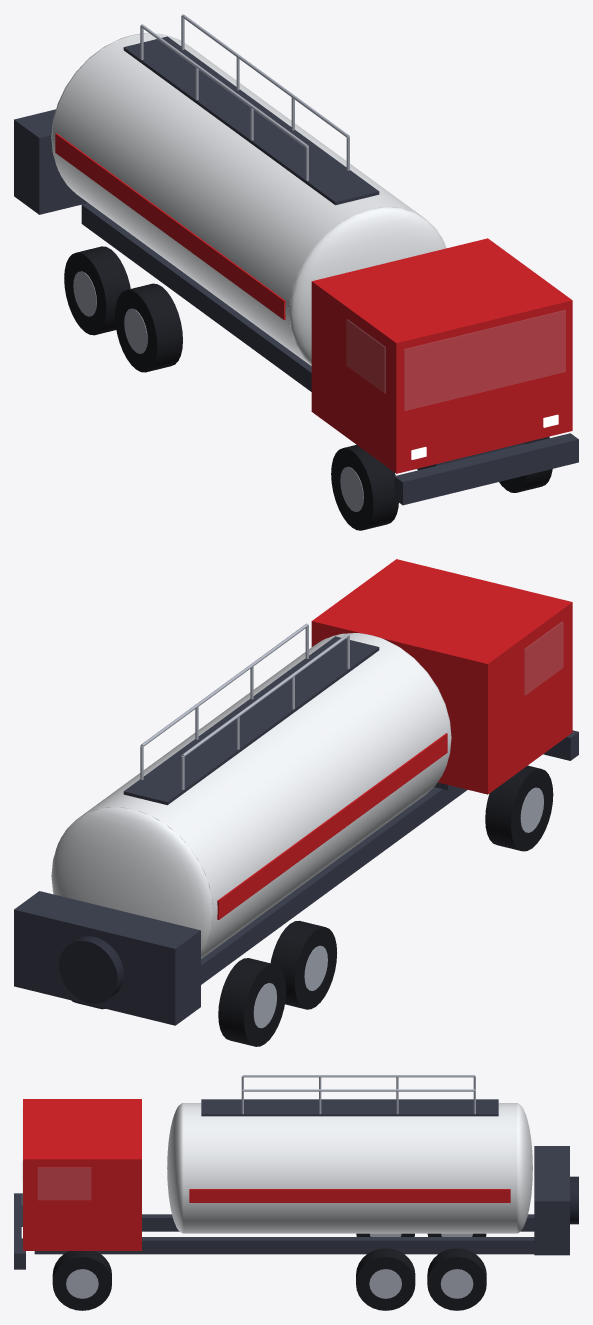
The model's file is air-015.glb.
3 views of the same model, one above another, from view 1: azimuth 30°, elevation 25°; view 2: azimuth 150°, elevation 25°; view 3: azimuth 270°, elevation 25° (orthographic). The views are drawn at different scales.
Visible parts, largest first — view 1: accent_red, white, dark_steel, rubber, glass_clear, steel; view 2: white, accent_red, dark_steel, rubber, steel, plastic_dark, glass_clear; view 3: white, accent_red, dark_steel, rubber, steel, glass_clear, plastic_dark.
Boxes of the visible parts, x1,y1,x2,y2 form: accent_red: (55, 133, 572, 473); white: (51, 33, 446, 365); dark_steel: (14, 36, 578, 505); rubber: (64, 246, 552, 530); glass_clear: (347, 310, 565, 410); steel: (73, 14, 363, 511); white: (51, 633, 451, 958); accent_red: (217, 559, 572, 919); dark_steel: (14, 636, 578, 1025); rubber: (71, 765, 553, 1046); steel: (140, 623, 543, 1028); plastic_dark: (59, 936, 123, 1003); glass_clear: (524, 622, 562, 694); white: (167, 1103, 532, 1233); accent_red: (23, 1099, 510, 1250); dark_steel: (14, 1099, 569, 1269); rubber: (52, 1233, 486, 1310); steel: (66, 1075, 475, 1298); glass_clear: (22, 1107, 90, 1204); plastic_dark: (570, 1176, 578, 1224).
Size of the model in its own units: 2.46 by 3.67 by 9.5.
